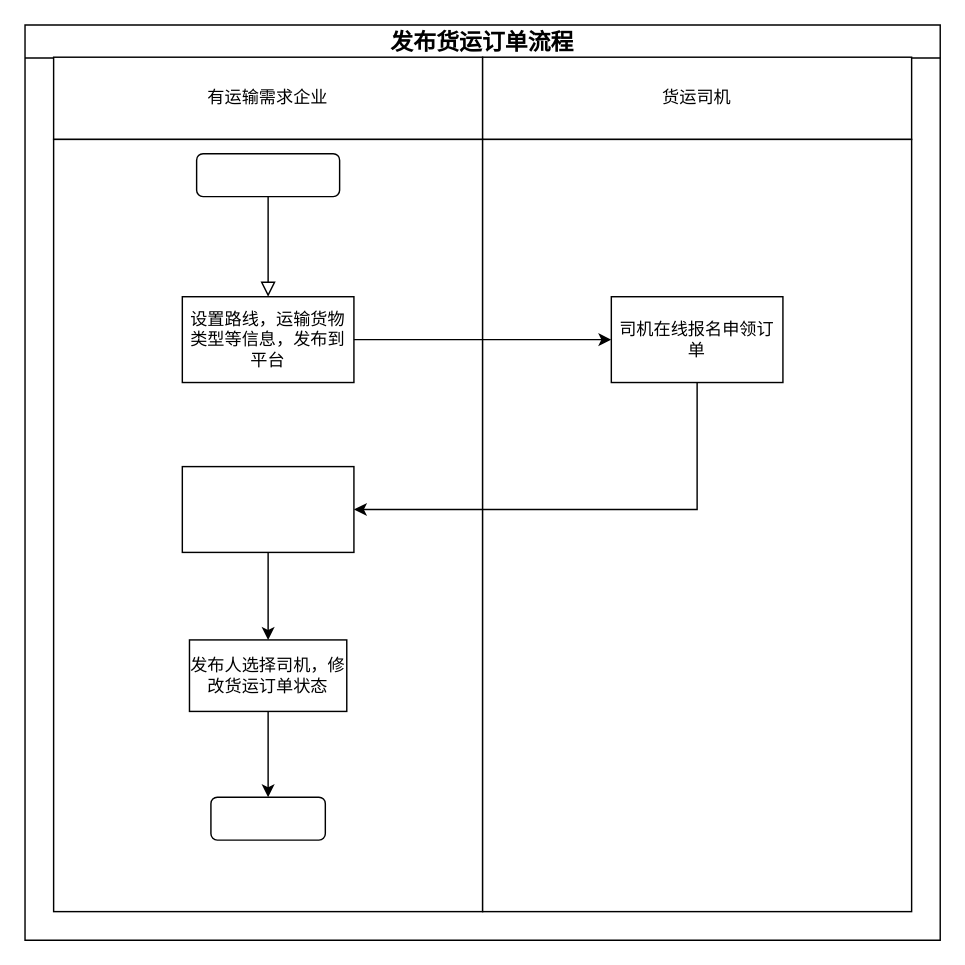
The diagram is 965 pixels wide and 965 high, and some of its shapes have lost their labels. Each missing label, with the centre of its shape:
发布人浏览申请人信息，党员司机优先显示: the point at 267,508
开始: the point at 267,174
结束: the point at 267,818
